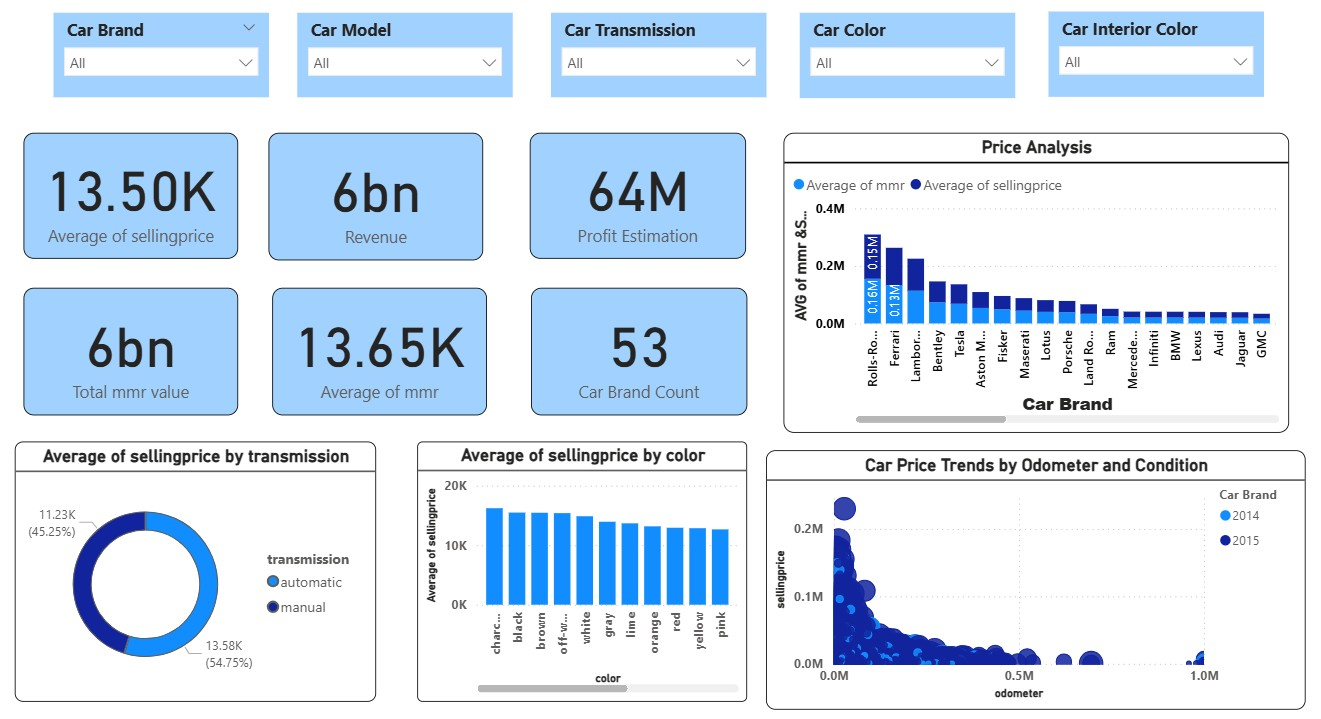

The page's visual inventory and layout, read from the dashboard file:
{"tool":"powerbi","page":{"name":"Page 1","canvas":[1280,720],"ordinal":0},"visuals":[{"type":"columnChart","title":"Price Analysis","fields":{"Category":["car_prices.make"],"Y":["Avg(car_prices.mmr)","Avg(car_prices.sellingprice)"]},"box":[760.3,138.5,487.7,290],"z":0},{"type":"card","fields":{"Values":["Avg(car_prices.sellingprice)"]},"box":[26.5,138.7,207.5,121.9],"z":1000},{"type":"card","fields":{"Values":["Sum(car_prices.sellingprice)"]},"box":[263,138.7,207.5,123.1],"z":2000},{"type":"card","fields":{"Values":["Avg(car_prices.mmr)"]},"box":[266.6,288.3,207.5,123.1],"z":3000},{"type":"card","fields":{"Values":["Sum(car_prices.mmr)"]},"box":[26.5,288.3,207.5,123.1],"z":4000},{"type":"slicer","fields":{"Values":["car_prices.model"]},"box":[291,23.2,207.9,81.9],"z":5000},{"type":"slicer","fields":{"Values":["car_prices.make"]},"box":[55,23.2,207.9,81.9],"z":6000},{"type":"card","fields":{"Values":["car_prices.PriceDiff"]},"box":[515.2,138.7,208.7,121.9],"z":7000},{"type":"scatterChart","title":"Car Price Trends by Odometer and Condition","fields":{"X":["car_prices.odometer"],"Y":["car_prices.sellingprice"],"Size":["Avg(car_prices.condition)"],"Series":["car_prices.saleyear"]},"box":[743.5,445.1,520.9,250.7],"z":8000},{"type":"donutChart","fields":{"Category":["car_prices.transmission"],"Y":["Avg(car_prices.sellingprice)"]},"box":[18.1,436.7,348.7,250.9],"z":9000},{"type":"slicer","fields":{"Values":["car_prices.transmission"]},"box":[535.6,23.2,207.9,81.9],"z":10000},{"type":"card","fields":{"Values":["Count(car_prices.make)"]},"box":[516.4,288.3,208.7,123.1],"z":11000},{"type":"columnChart","fields":{"Y":["Avg(car_prices.sellingprice)"],"Category":["car_prices.color"]},"box":[406.6,436.7,318.5,250.9],"z":11001},{"type":"slicer","fields":{"Values":["car_prices.color"]},"box":[776.2,23.1,207.8,82.2],"z":11002},{"type":"slicer","fields":{"Values":["car_prices.interior"]},"box":[1015.7,21.6,207.8,82.2],"z":11003}]}

Visuals, with their boxes on the page's 1280x720 design canvas (x1, y1, x2, y2). These are canvas units, not pixel positions in the 1321x719 screenshot, which may show the page scaled, cropped or inside an application window:
"Price Analysis" columnChart: region(760, 138, 1248, 428)
card - Avg(car_prices.sellingprice): region(26, 139, 234, 261)
card - Sum(car_prices.sellingprice): region(263, 139, 470, 262)
card - Avg(car_prices.mmr): region(267, 288, 474, 411)
card - Sum(car_prices.mmr): region(26, 288, 234, 411)
slicer - car_prices.model: region(291, 23, 499, 105)
slicer - car_prices.make: region(55, 23, 263, 105)
card - car_prices.PriceDiff: region(515, 139, 724, 261)
"Car Price Trends by Odometer and Condition" scatterChart: region(744, 445, 1264, 696)
donutChart - car_prices.transmission x Avg(car_prices.sellingprice): region(18, 437, 367, 688)
slicer - car_prices.transmission: region(536, 23, 744, 105)
card - Count(car_prices.make): region(516, 288, 725, 411)
columnChart - Avg(car_prices.sellingprice) x car_prices.color: region(407, 437, 725, 688)
slicer - car_prices.color: region(776, 23, 984, 105)
slicer - car_prices.interior: region(1016, 22, 1224, 104)
